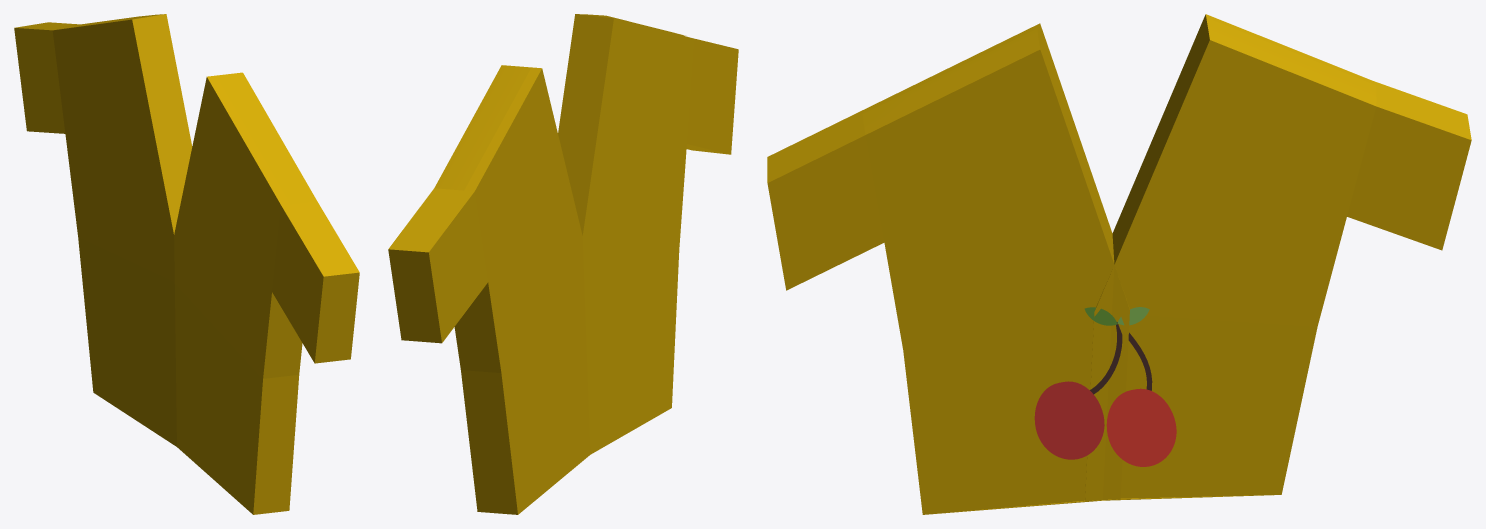
Rendered from Tshirt_Cherry.fbx.
3 renders of one model, left to right at view 1: azimuth 30°, elevation 25°; view 2: azimuth 150°, elevation 25°; view 3: azimuth 270°, elevation 25°, orthographic. The views are drawn at different scales.
Visible parts, largest first — view 1: elbise; view 2: elbise; view 3: elbise, Curve, Curve.003, Curve.006.
Boxes of the visible parts, x1=… form: elbise: x1=14, y1=14, x2=359, y2=514; elbise: x1=388, y1=14, x2=738, y2=514; elbise: x1=767, y1=14, x2=1471, y2=514; Curve: x1=1034, y1=381, x2=1104, y2=459; Curve.003: x1=1106, y1=388, x2=1176, y2=466; Curve.006: x1=1090, y1=322, x2=1152, y2=394.
Size of the model in its own units: 15.24 by 123 by 163.
